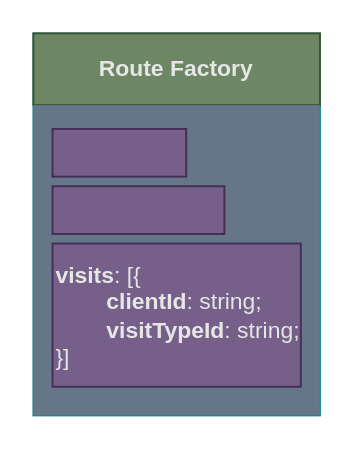
The diagram is 353 pixels wide and 449 high, and some of its shapes have lost their labels. The shapes that lost their labels are listed below. From the top down, each one's box as (x1, y1, x2, y2) in pixels, then its label:
(51, 127, 186, 177): name : string
(51, 184, 224, 234): locality : string[ ]
